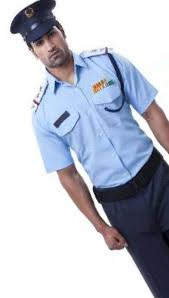uniform: (3, 1, 169, 257)
